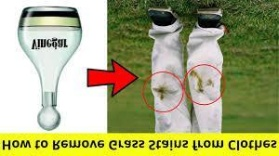earth: (192, 72, 211, 92), (155, 84, 170, 102)
